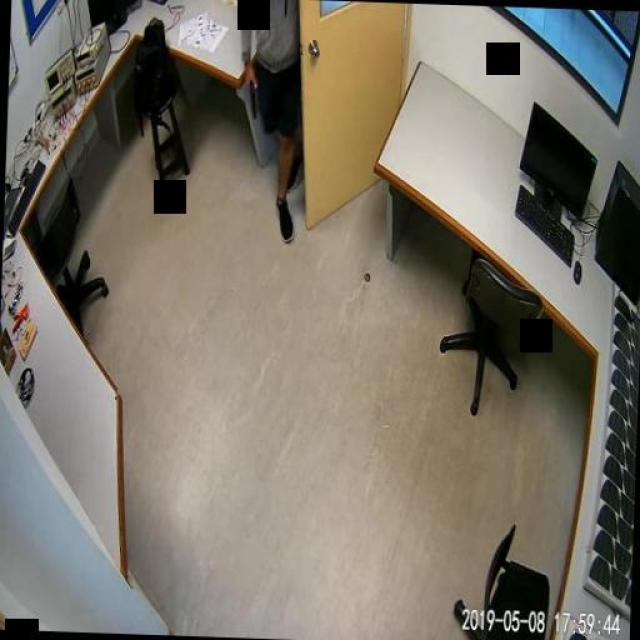gun: (242, 73, 256, 119)
